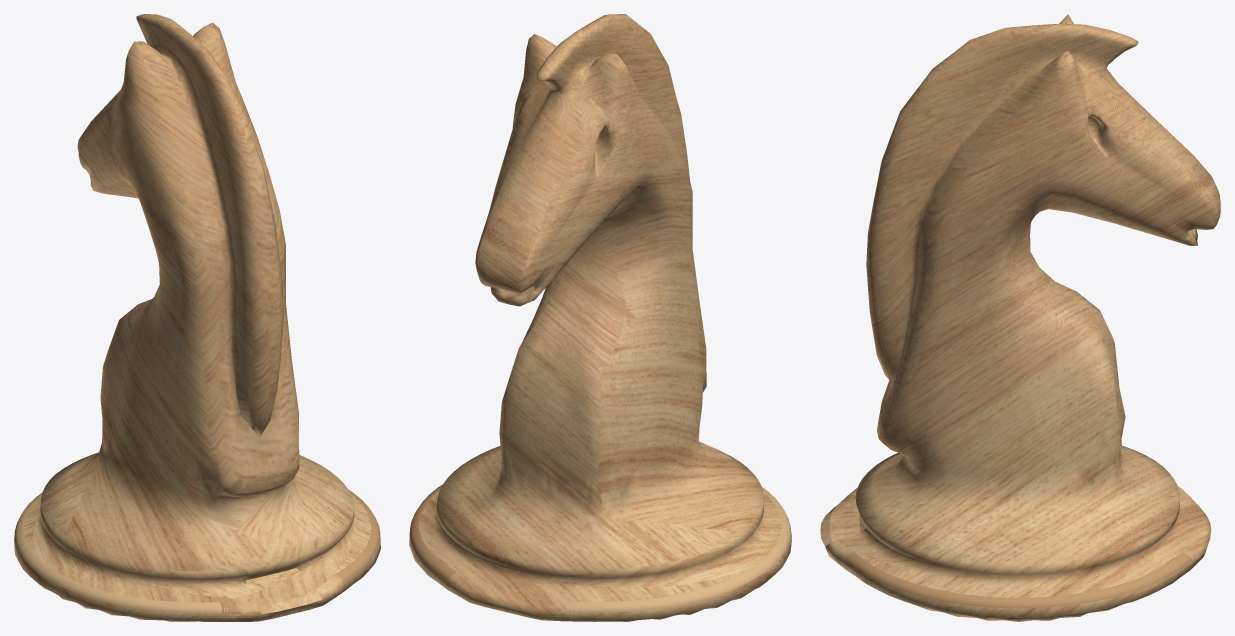
The model's file is knight_white.glb.
3 views of the same model, side by side, from view 1: azimuth 30°, elevation 25°; view 2: azimuth 150°, elevation 25°; view 3: azimuth 270°, elevation 25° (orthographic). The views are drawn at different scales.
Visible parts, largest first — view 1: Cylinder; view 2: Cylinder; view 3: Cylinder.
Part boxes in pixels (box(x1,y1,x2,y2)): Cylinder: box(14, 14, 380, 621); Cylinder: box(409, 14, 791, 621); Cylinder: box(820, 14, 1220, 621).
Size of the model in its own units: 0.6817 by 1.05 by 0.7251.
Materials: 1 (1 with a texture image).
